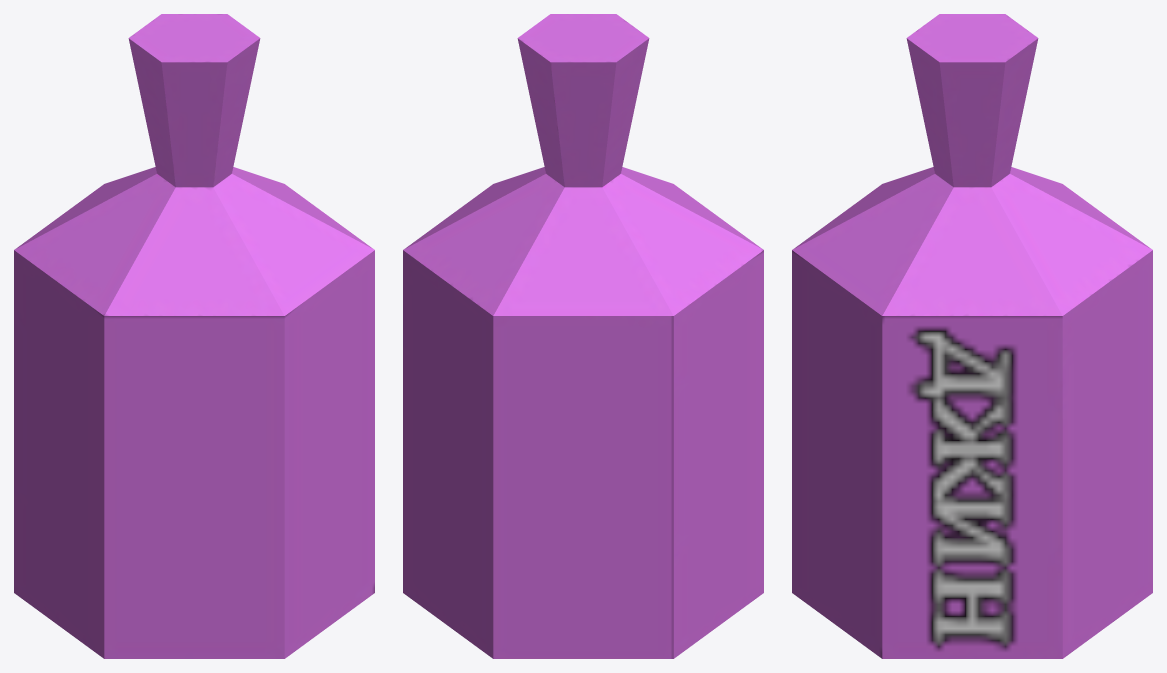
Rendered from Jin_final.glb.
The picture shows the model from 3 angles, left to right: view 1: azimuth 30°, elevation 25°; view 2: azimuth 150°, elevation 25°; view 3: azimuth 270°, elevation 25°; orthographic projection.
Visible parts, largest first — view 1: Cylinder; view 2: Cylinder; view 3: Cylinder.
Part boxes in pixels (x1,y1,x2,y2): Cylinder: [14, 14, 374, 658]; Cylinder: [403, 14, 763, 658]; Cylinder: [792, 14, 1152, 658].
Size of the model in its own units: 1.73 by 3.39 by 2.
Materials: 1 (1 with a texture image).
